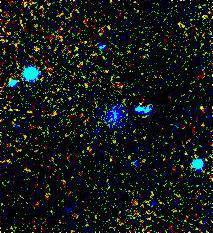star: (188, 93, 213, 123)
